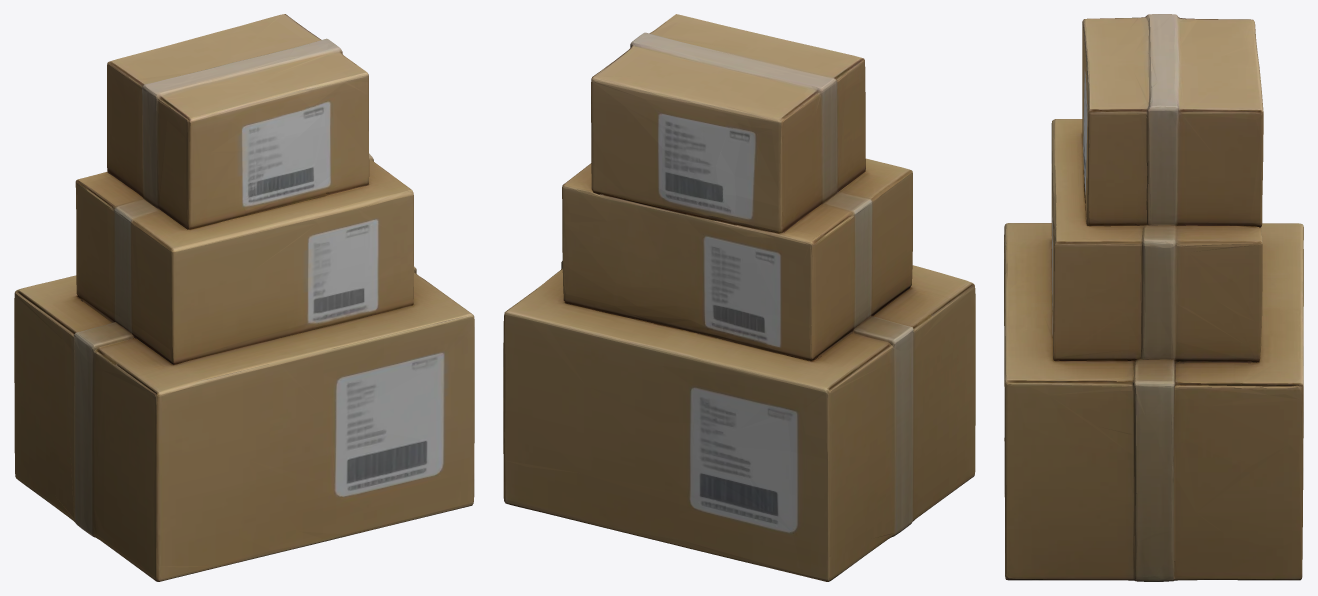
Rendered from packages.glb.
3 renders of one model, left to right at view 1: azimuth 30°, elevation 25°; view 2: azimuth 150°, elevation 25°; view 3: azimuth 270°, elevation 25°, orthographic. The views are drawn at different scales.
Visible parts, largest first — view 1: geometry_0; view 2: geometry_0; view 3: geometry_0.
Boxes of the visible parts, left/top/right/bottom form: geometry_0: left=14, top=14, right=474, bottom=581; geometry_0: left=503, top=14, right=975, bottom=581; geometry_0: left=1004, top=14, right=1303, bottom=581.
Size of the model in its own units: 0.8052 by 0.9989 by 0.6141.
1 material, 1 textured.
